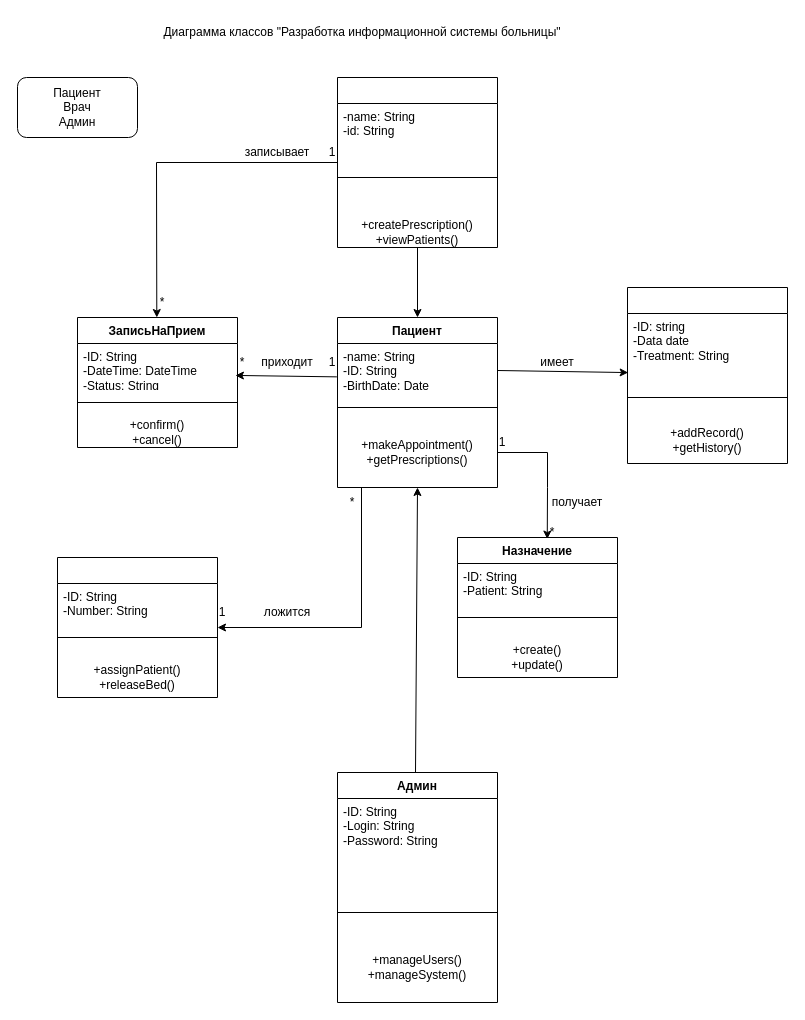
The diagram is 805 pixels wide and 1020 high, and some of its shapes have lost their labels. The shapes that lost their labels are listed below. From the top down, each one's box as (x1, y1, x2, y2) in pixels, then its label:
(336, 76, 498, 248): Врач
(626, 286, 788, 464): МедицинскаяКарта
(56, 556, 218, 698): Палата
